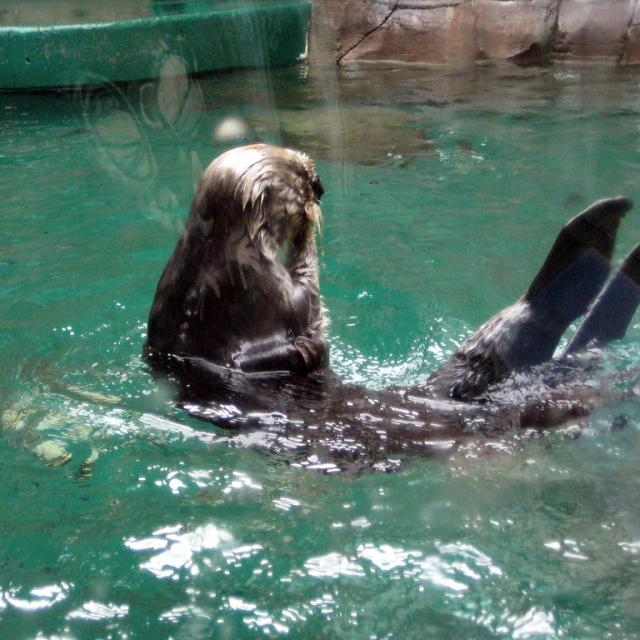otter: (148, 146, 640, 383)
